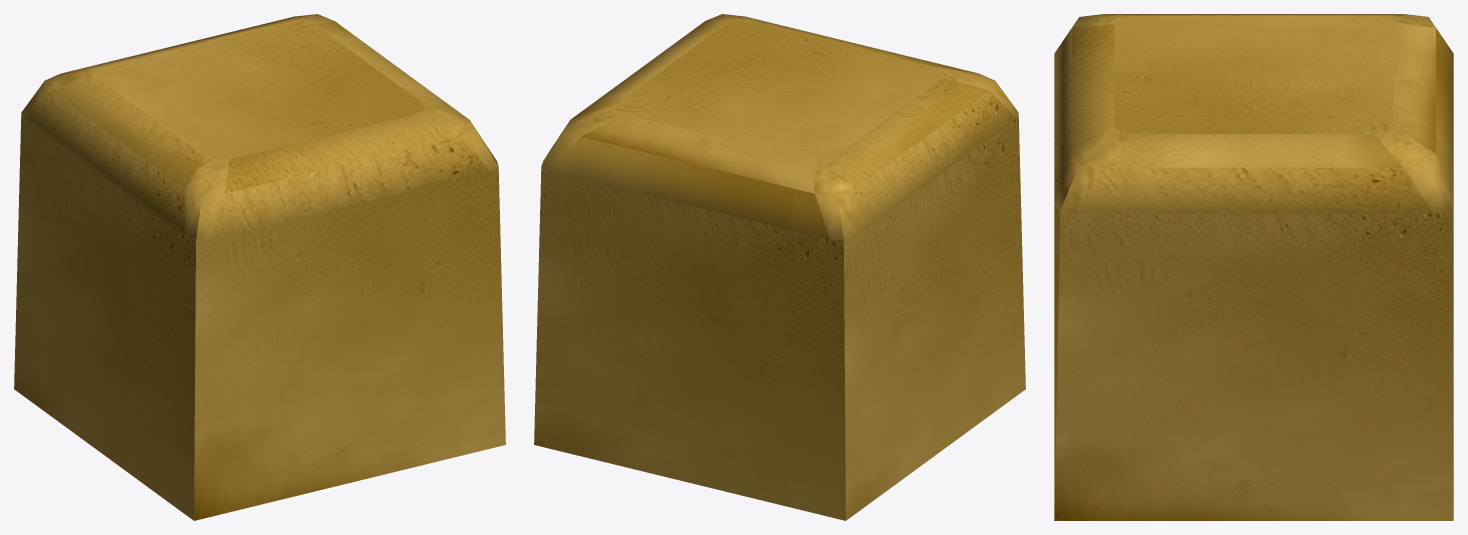
The model's file is 分數按鈕牆黃綠土沙漠關.fbx.
The picture shows the model from 3 angles, left to right: view 1: azimuth 30°, elevation 25°; view 2: azimuth 150°, elevation 25°; view 3: azimuth 270°, elevation 25°; orthographic projection. The views are drawn at different scales.
Visible parts, largest first — view 1: Cube; view 2: Cube; view 3: Cube.
Part boxes in pixels (bbox=[...]): Cube: bbox=[14, 14, 505, 520]; Cube: bbox=[534, 14, 1025, 520]; Cube: bbox=[1054, 14, 1453, 520].
Size of the model in its own units: 200 by 200 by 200.
1 material, 1 textured.
